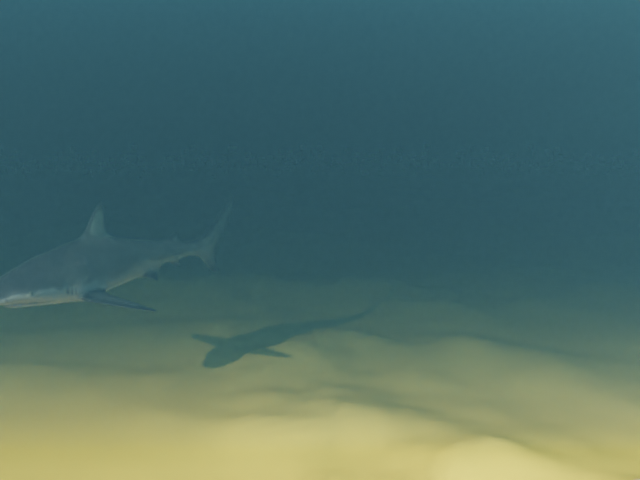Carribean Shark.001: (0, 193, 233, 311)
